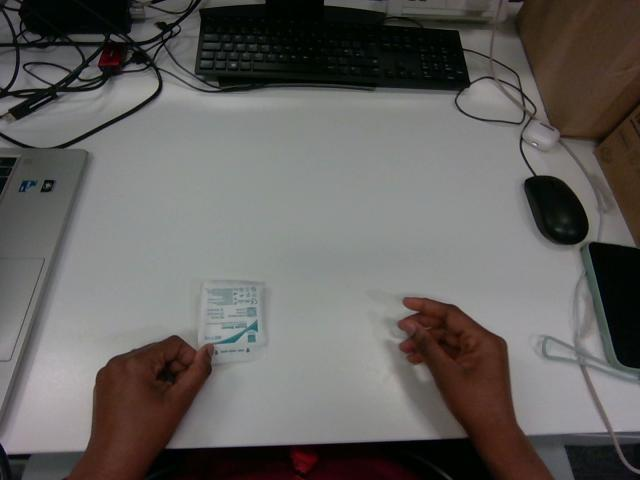gauze: (198, 281, 266, 363)
